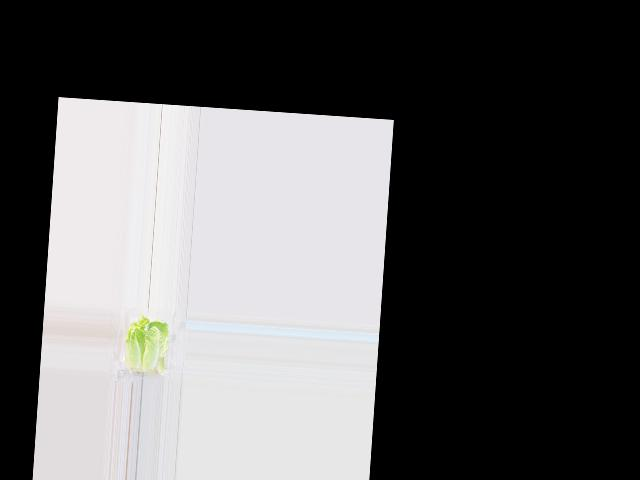lettuce: (123, 313, 170, 373)
